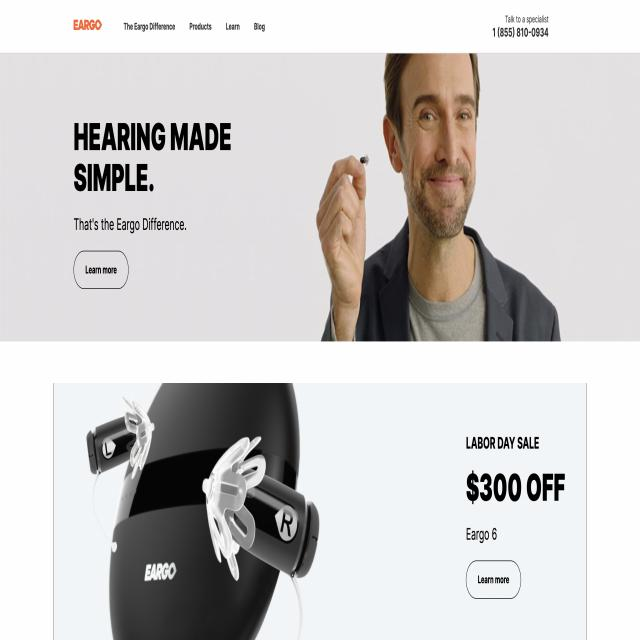Logo: (67, 3, 107, 46)
Navigation: (119, 11, 277, 46)
